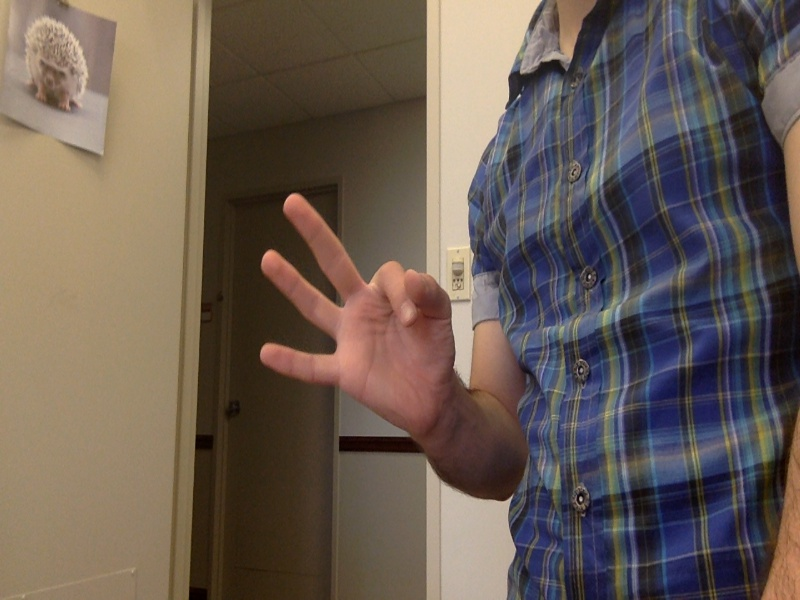3-hand: (256, 193, 457, 438)
